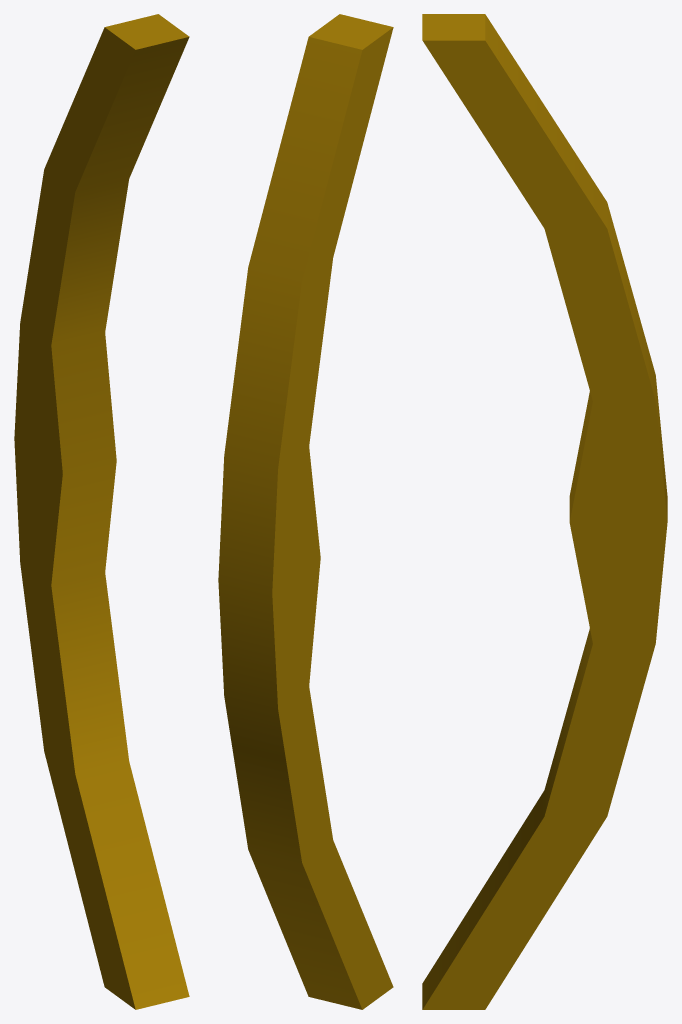
The model's file is LP_LongBow.fbx.
3 renders of one model, left to right at view 1: azimuth 30°, elevation 25°; view 2: azimuth 150°, elevation 25°; view 3: azimuth 270°, elevation 25°, orthographic.
Parts seen in each view (by area): view 1: pCube3; view 2: pCube3; view 3: pCube3.
Boxes of the visible parts, box(x1,y1,x2,y2) form: pCube3: box(14, 14, 189, 1009); pCube3: box(218, 14, 393, 1009); pCube3: box(422, 14, 667, 1009).
Bounding box in the file's own units: 0.0589 × 1 × 0.2297.
